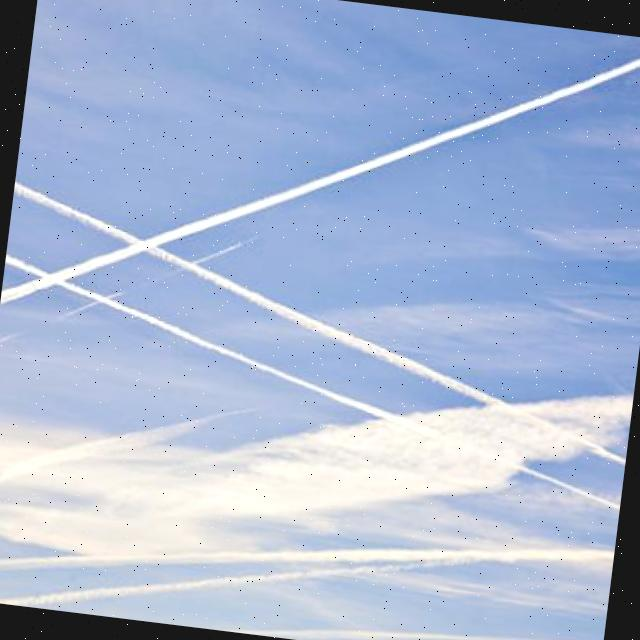Ct: (1, 1, 640, 453)
